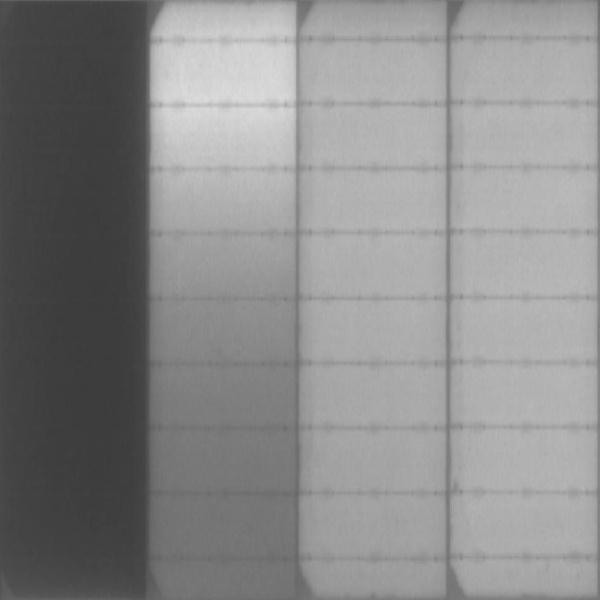no_electricity: (1, 1, 144, 597)
